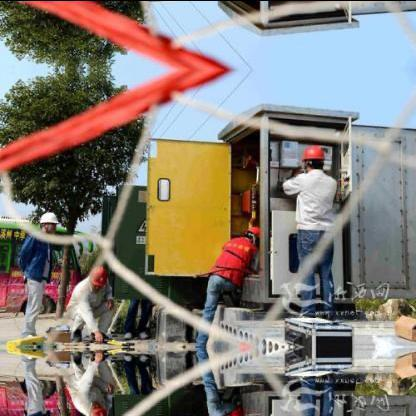Helmet: (298, 144, 328, 170), (84, 263, 108, 291), (36, 209, 60, 233), (240, 223, 264, 244), (84, 399, 108, 413)
